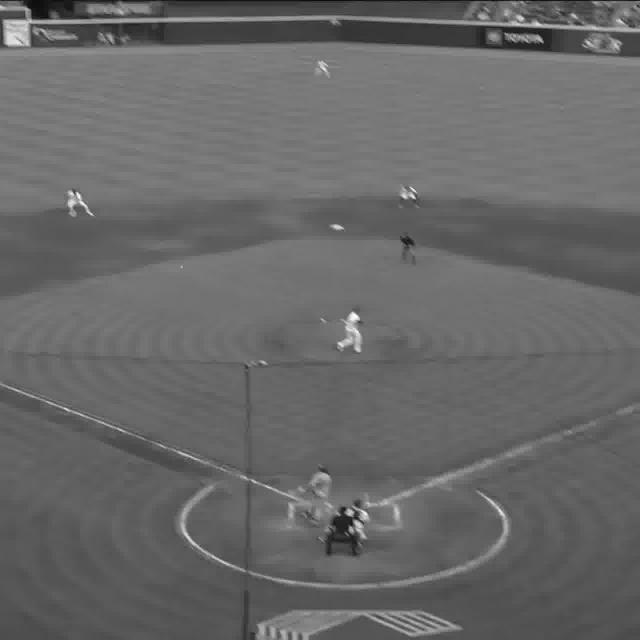base: (330, 223, 346, 230)
baseball: (180, 268, 184, 270)
shoe: (337, 342, 346, 359), (352, 350, 364, 356)
